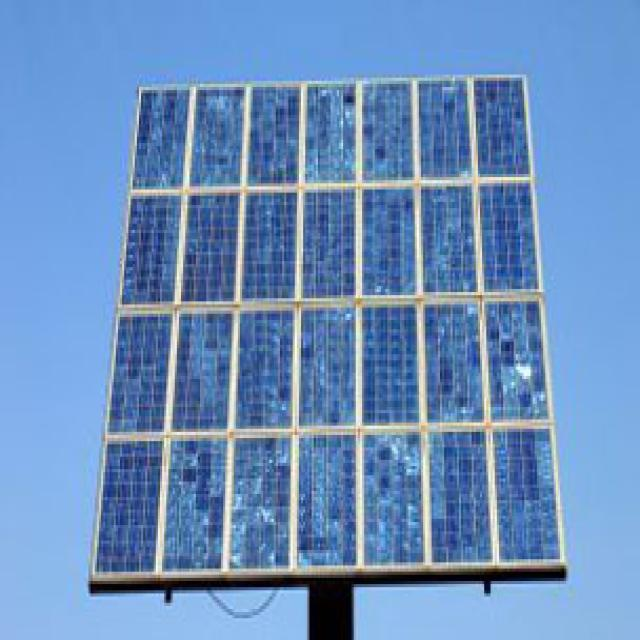dust-solar-panel: (92, 80, 563, 590)
